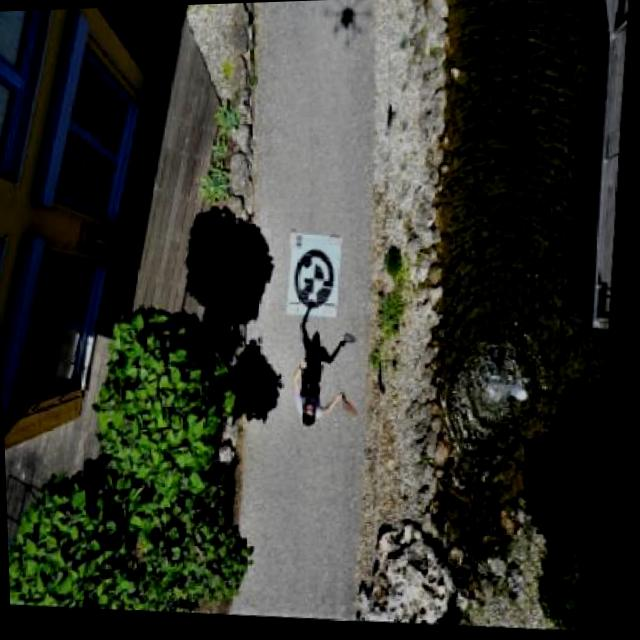Person: (282, 354, 366, 441)
